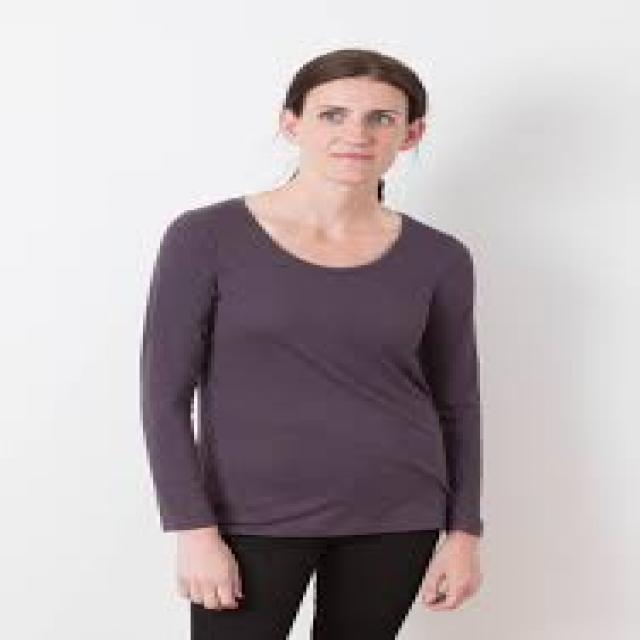plain: (125, 189, 491, 539)
